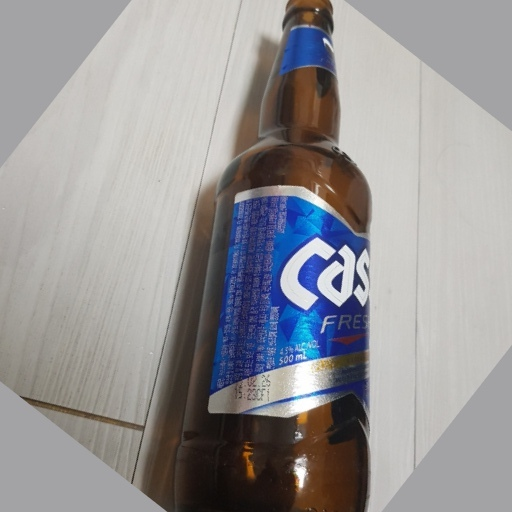Glass_1: (176, 1, 375, 512)
